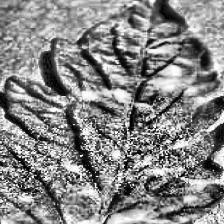Anthracnose Fruit Rot: (90, 197, 165, 224), (156, 56, 202, 92), (74, 83, 134, 107)
